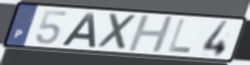4: (200, 18, 231, 59)
5: (35, 9, 69, 46)
A: (59, 12, 97, 48)
H: (126, 14, 176, 53)
L: (166, 18, 194, 55)
X: (96, 12, 140, 52)
